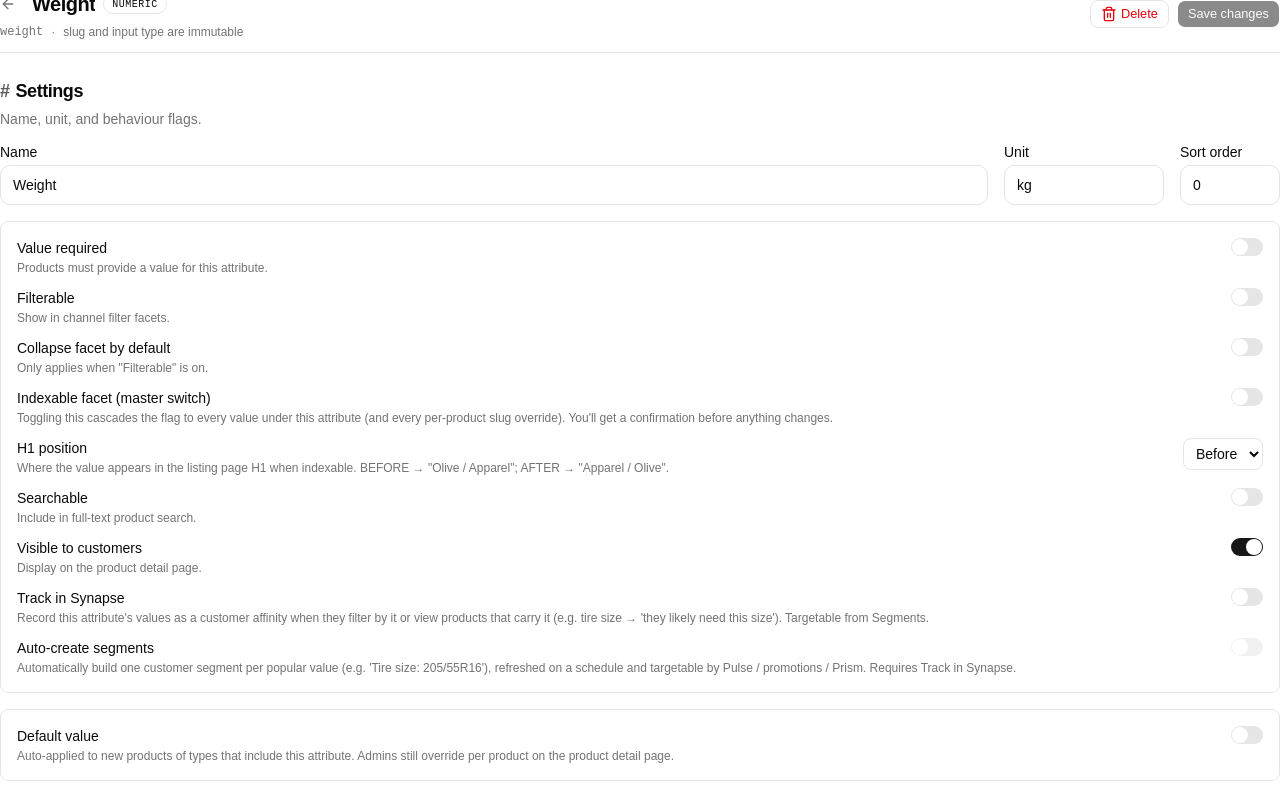
AttributeDetail confirms › keeps the cascade open on a refusal
Expected: the button "Save changes" is shown, [1177, 0, 1279, 28]
Click the switch named "Indexable" in the row of "Indexable facet (master switch)". click: (1247, 397)
box: [1231, 388, 1263, 406]
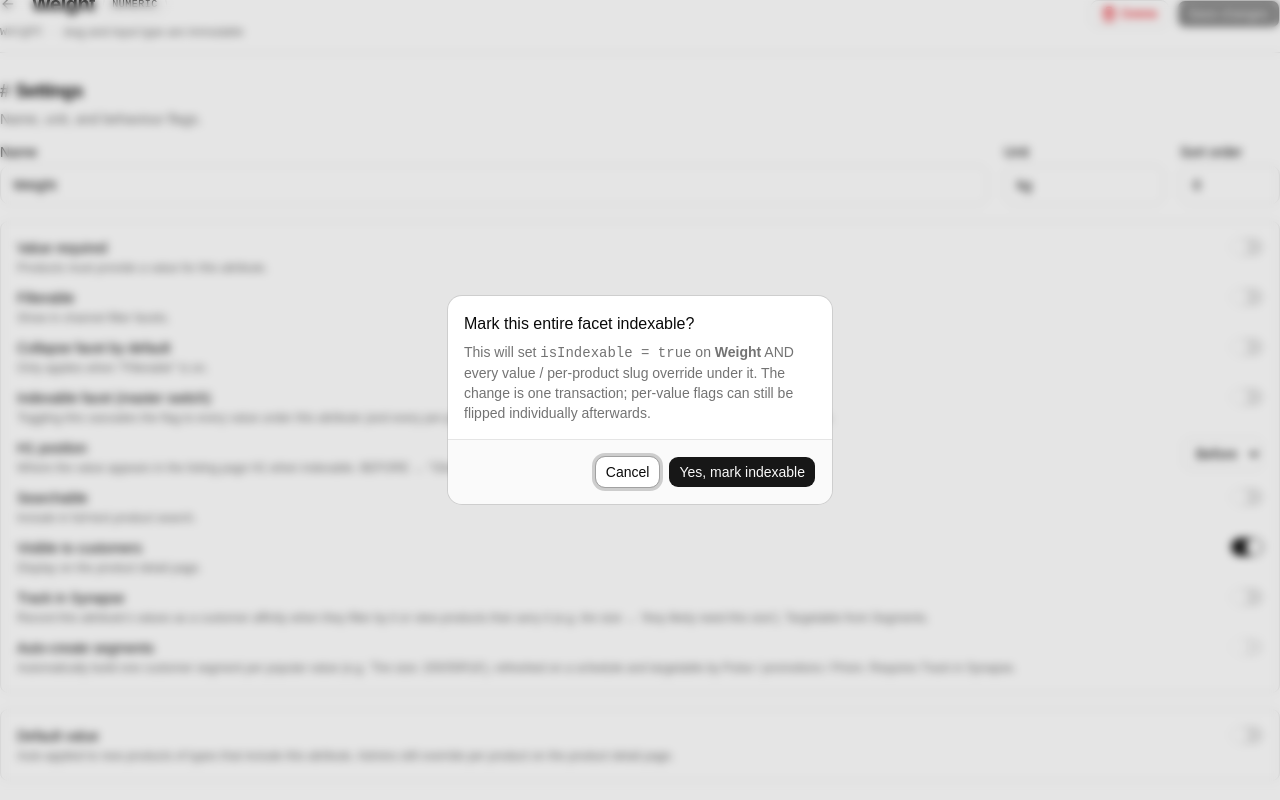
Expected: the heading "Mark this entire facet indexable?" is shown, [464, 312, 694, 336]
Click the button "Yes, mark indexable". click: (742, 472)
box: [668, 456, 816, 488]
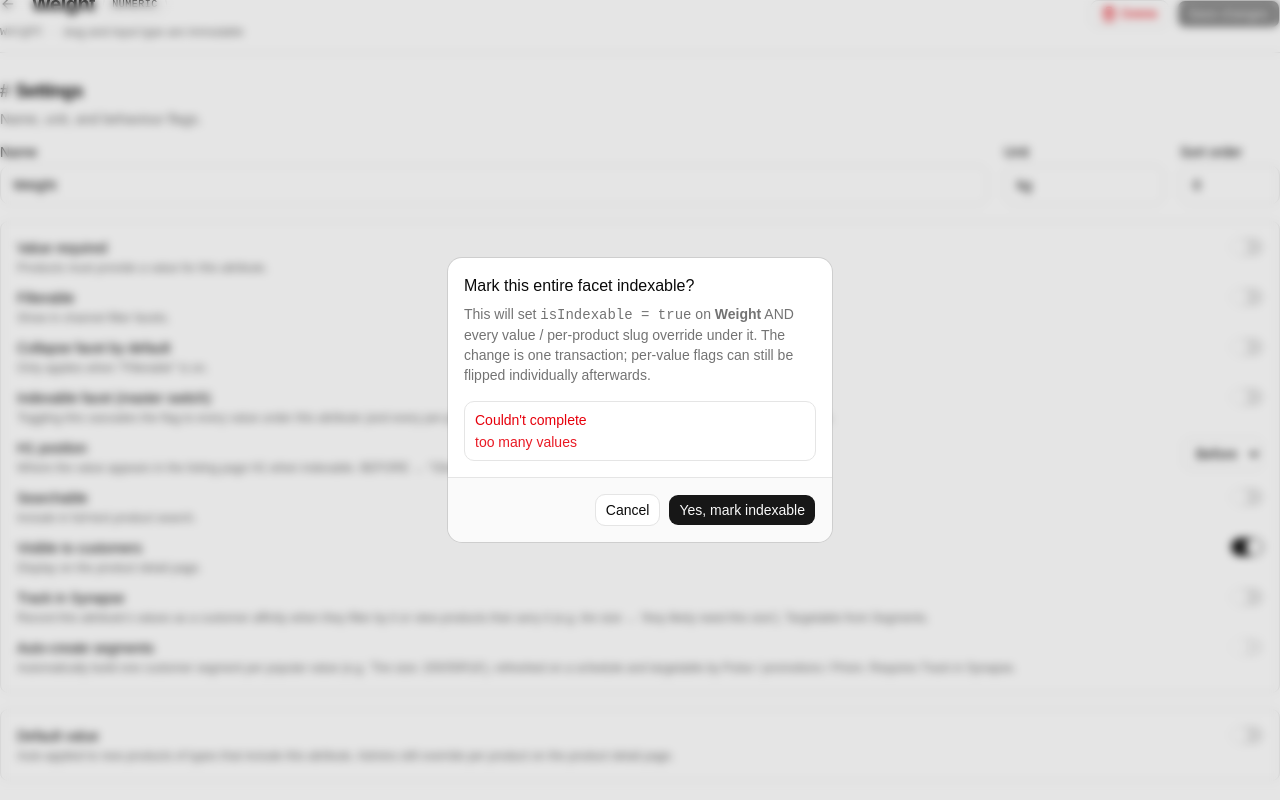
Expected: the text "too many values" is shown, [475, 434, 577, 450]
Click the button "Cancel". click: (628, 510)
box: [595, 494, 660, 526]
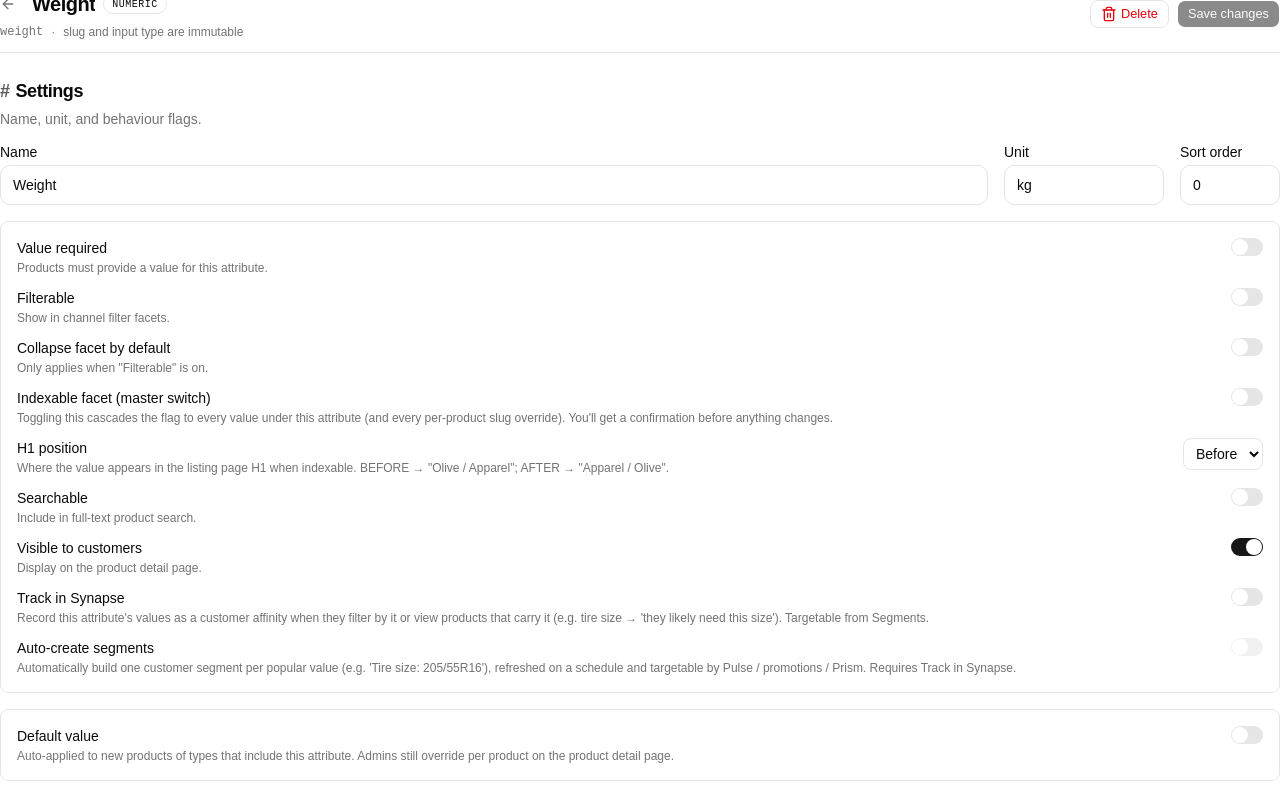
Expected: the dialog is gone
